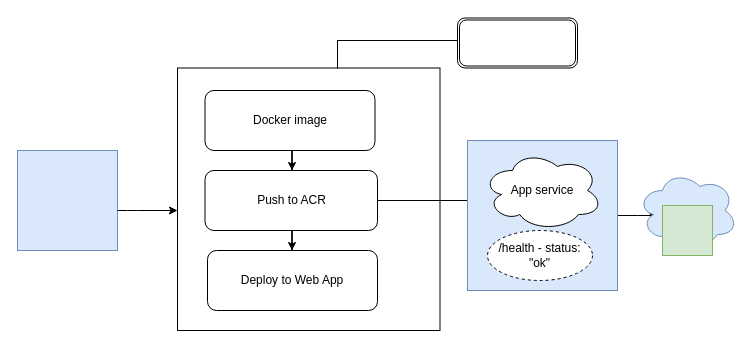
This 755x348 diagram has some shape labels left out. Each missing label, with the box of its shape:
Azure Container Registry ACR: (456, 17, 578, 68)
Code push to Github: (16, 150, 118, 250)
User access: (662, 204, 712, 256)
